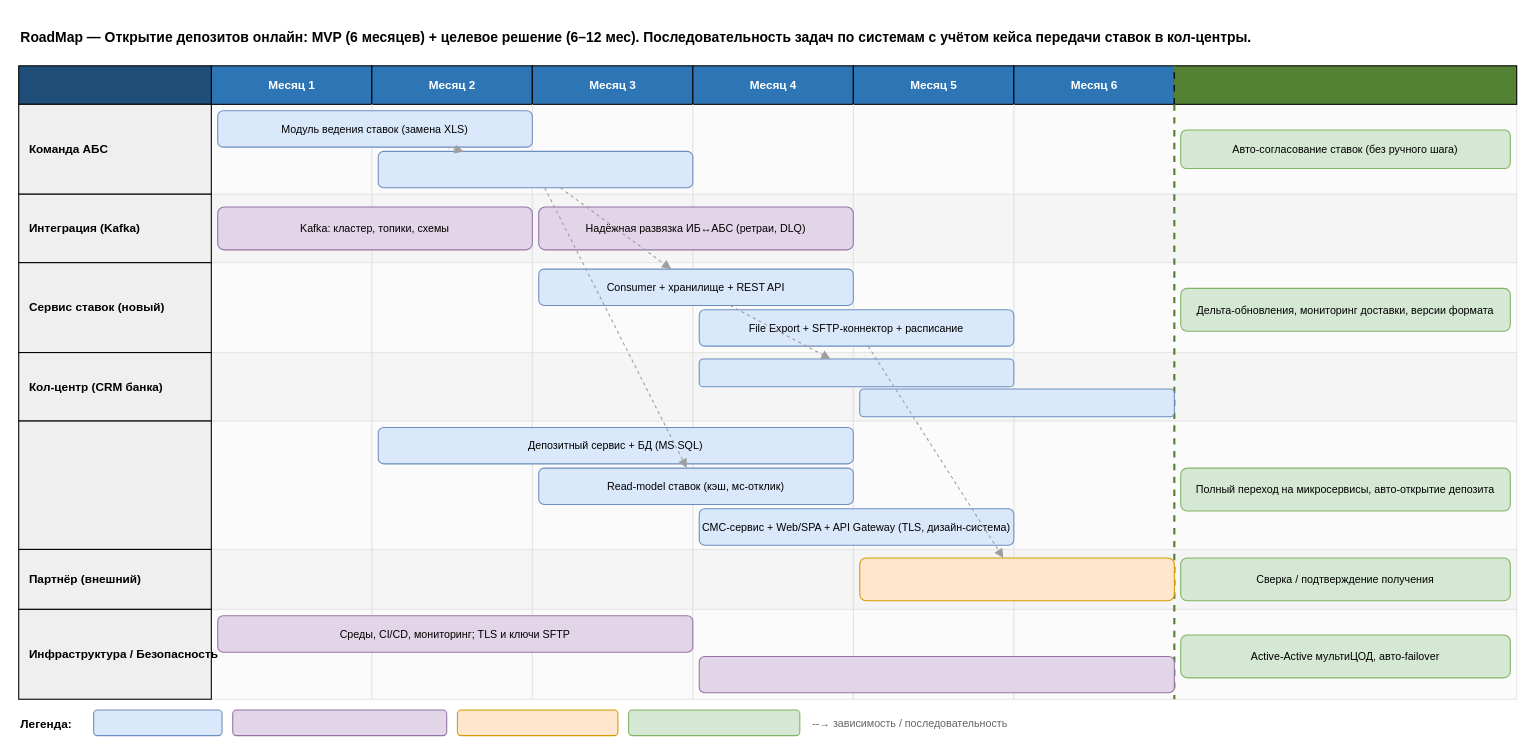
The diagram is 1535 pixels wide and 754 high, and some of its shapes have lost their labels. The shapes that lost their labels are listed below. From the top down, each one's centre as x and y in pixels, then its label:
At (114,84): "MVP — 6 месяцев".
At (1345,84): "Цель (6–12 мес)".
At (535,169): "Публикация ставок в Kafka (события)".
At (856,372): "CRM ↔ Rates API (консультация по ставкам)".
At (1016,402): "Подключение партнёрского кол-центра (процесс)".
At (114,484): "Интернет-банк".
At (1016,579): "Приём файлов ставок по SFTP (на стороне партнёра)".
At (936,674): "Резервный ЦОД, балансировка, гориз. масштабирование ИБ".
At (157,722): "Задача MVP".
At (339,722): "Инфраструктура / интеграция".
At (537,722): "Внешний партнёр".
At (714,722): "Целевое (6–12 мес)".
